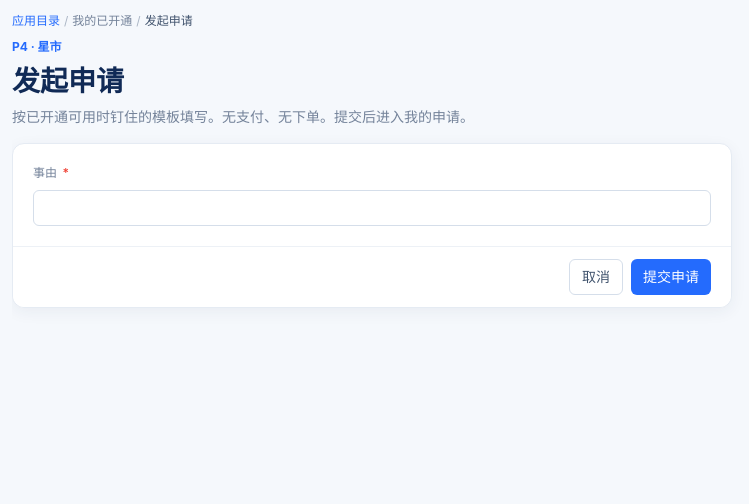
Test: provisioned product start form › explains an opaque 500, shows the trace id, and retries with the same values
Type "请假" into the field with id "field-title".
click(372, 208); type("请假")  # box [33,190,711,226]
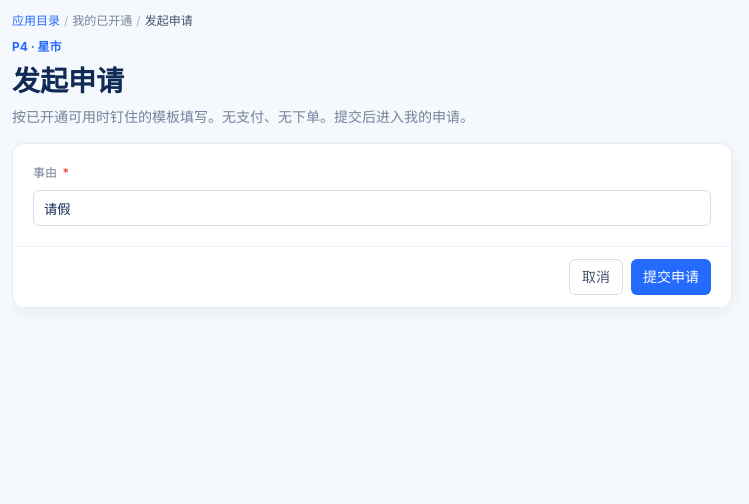
Submit the form, box [12,143,732,308]
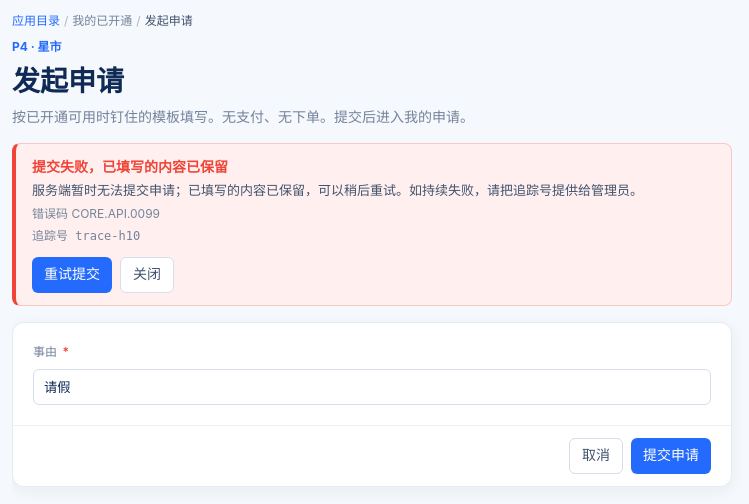
Check: the message with test id "start-submit-failure" shows "提交失败，已填写的内容已保留", box [32,158,228,175]
Check: the text with test id "nx-request-alert-hint" shows "可以稍后重试", box [32,182,643,198]
Check: the text with test id "nx-request-alert-trace" shows "trace-h10", box [32,228,140,242]
Click the button with test id "nx-request-alert-retry".
click(72, 274)  # box [32,256,112,292]
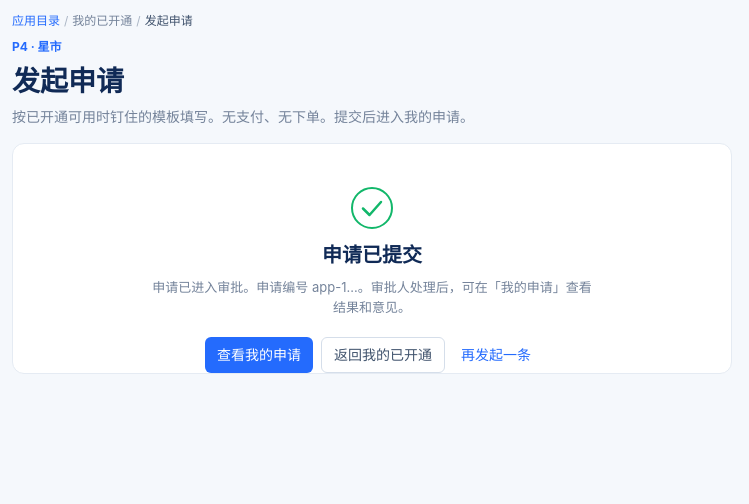
Check: the text with test id "nx-result-title" reads "申请已提交", box [322,243,422,267]
